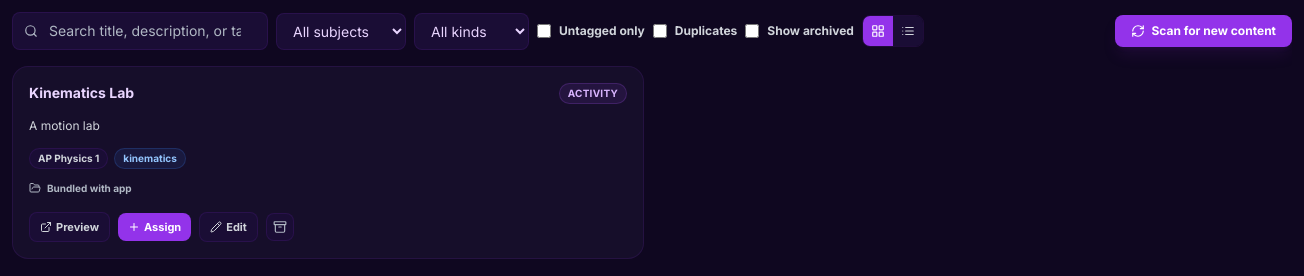
Test: LibraryTab › switches between grid and list views via the view toggle
expect the list is shown: met, box [12, 66, 644, 259]
Click the button named "List view" at (908, 31), box [893, 16, 923, 46]
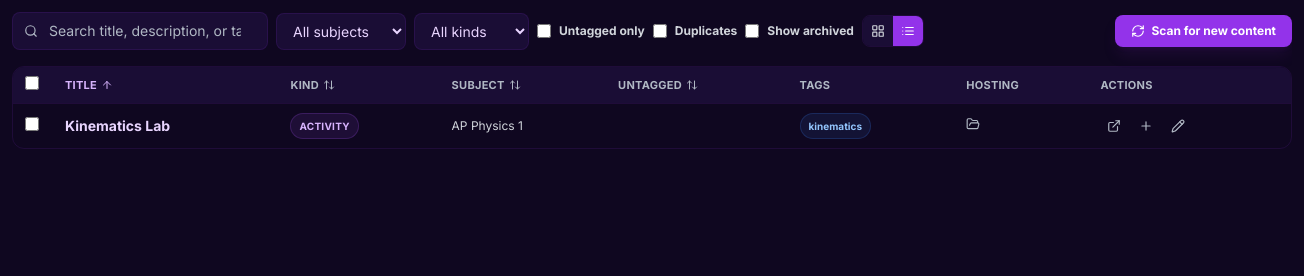
expect the table named "content library items" is shown: met, box [13, 67, 1291, 148]
Click the button named "Grid view" at (878, 31), box [863, 16, 893, 46]
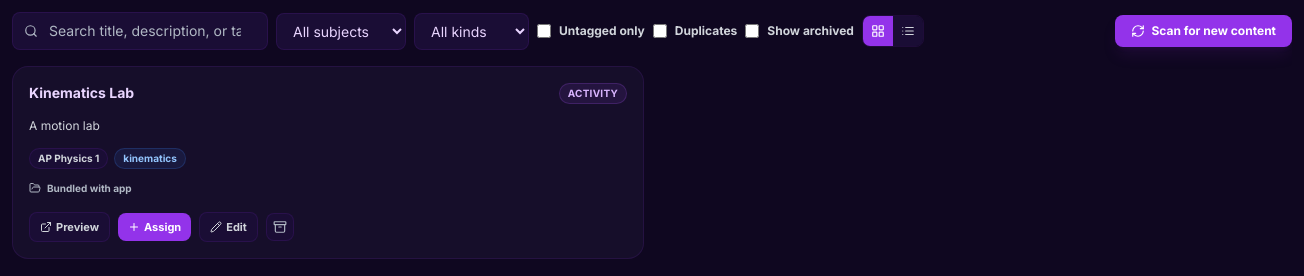
expect the table is gone: met
